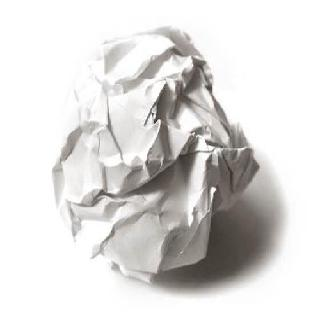8/可回收垃圾/纸: (51, 24, 260, 285)
